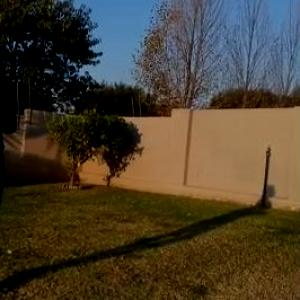follow: (0, 13, 21, 299)
